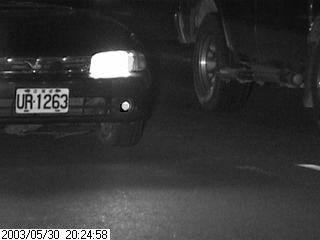plate: (14, 86, 70, 114)
